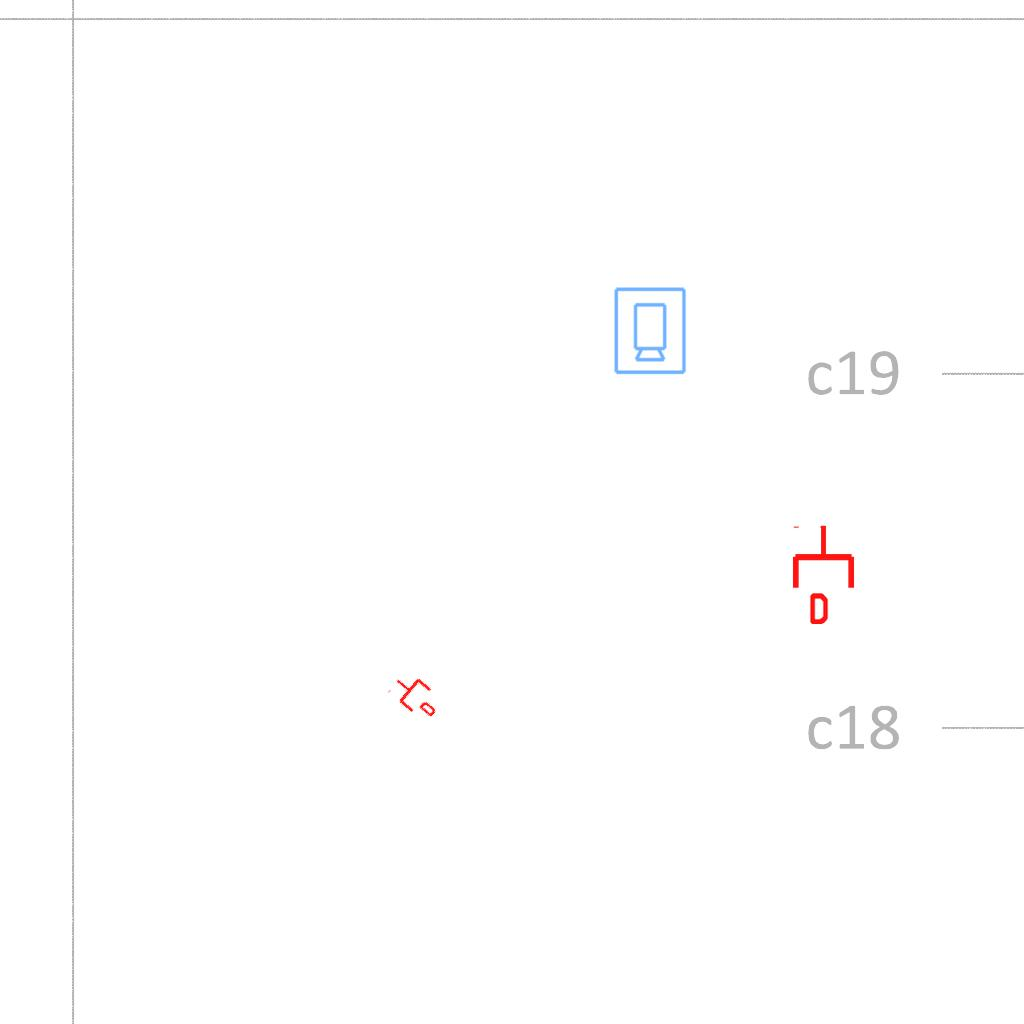Datenanschluss_einfach: (789, 524, 858, 624), (385, 666, 447, 726)
KFO_Kamera_mit_Festobjektiv: (611, 285, 688, 376)
